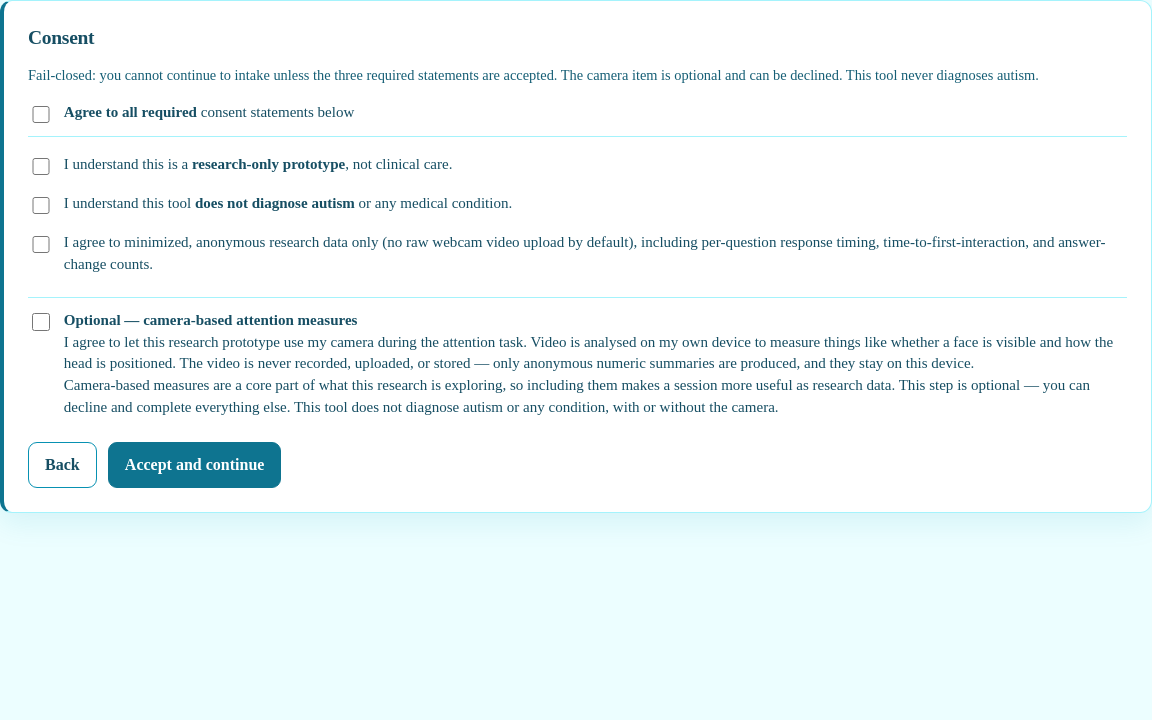
Test case: Consent › blocks submit when consent is incomplete
This screenshot has width=1152, height=720.
Click the button "Accept and continue": [195, 465] box [108,442,282,488]
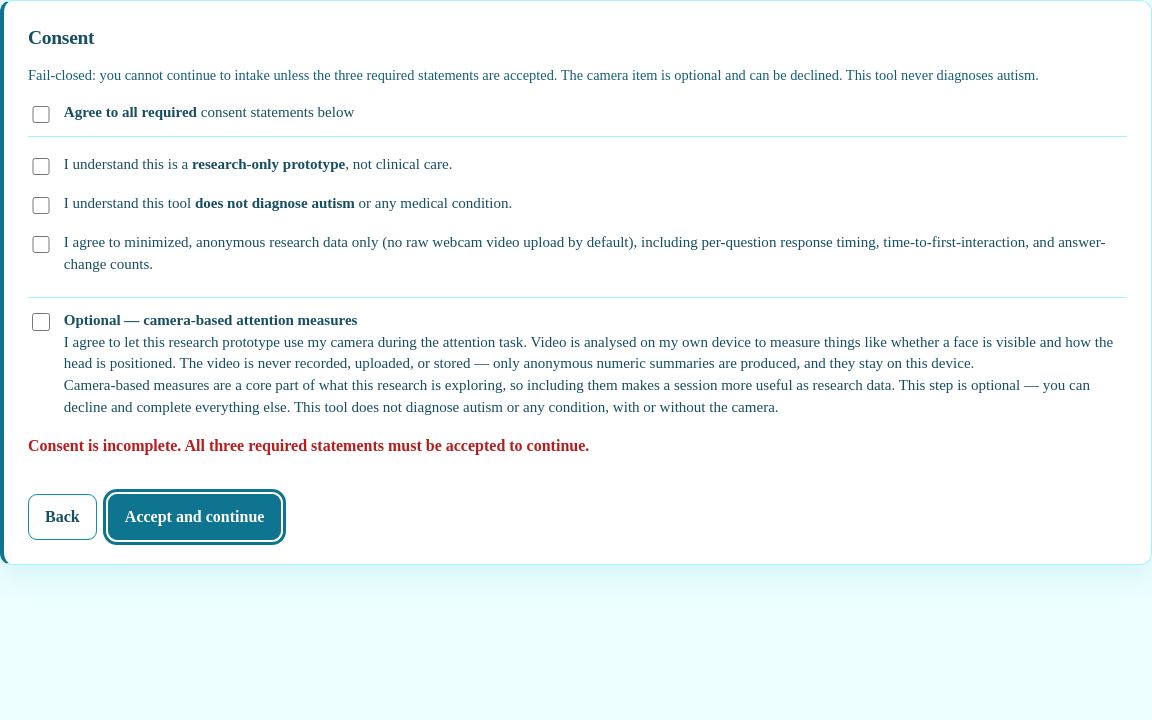
Check: the text "Consent is incomplete" is shown, box [28,437,589,454]
